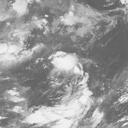cyclone: (53, 52, 80, 72)
